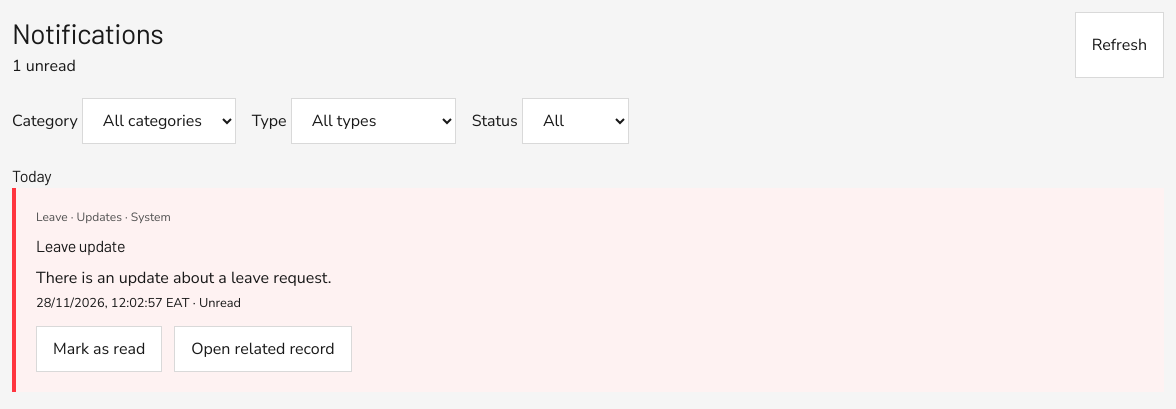
Test: marking read persists through the API-backed context and reloads the inbox
The image size is (1176, 409).
Click the button "Mark as read" at (99, 349), box [36,326,162,372]
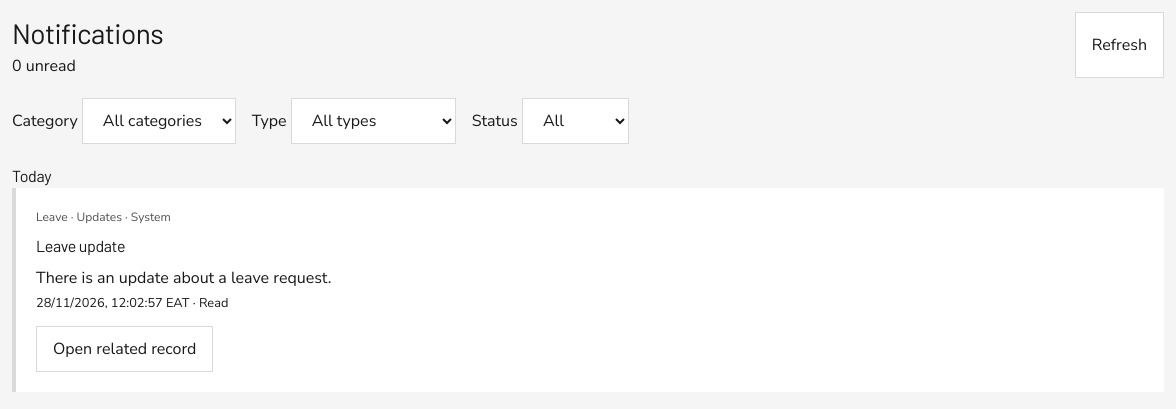
Expected: the text "0 unread" is shown, [12,55,76,77]
